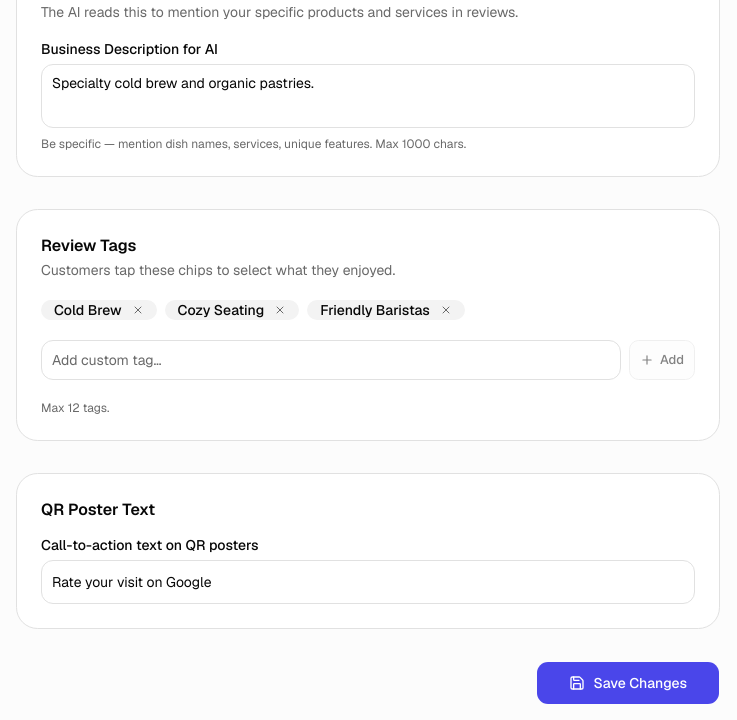
Test: MyBusinessForm Component Tests › adds a new tag via input and Add button
This screenshot has width=737, height=720.
(page scrolled)
Type "Artisan Croissants" into the field with placeholder "Add custom tag…". click: (331,360)
box: [41, 340, 621, 380]
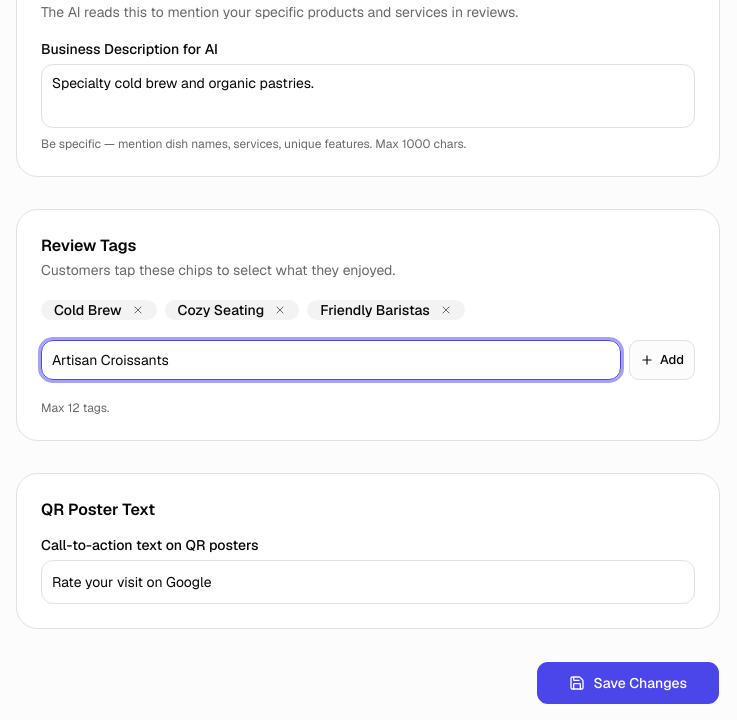
Click the button "Add". click: (662,360)
box: [629, 340, 695, 380]
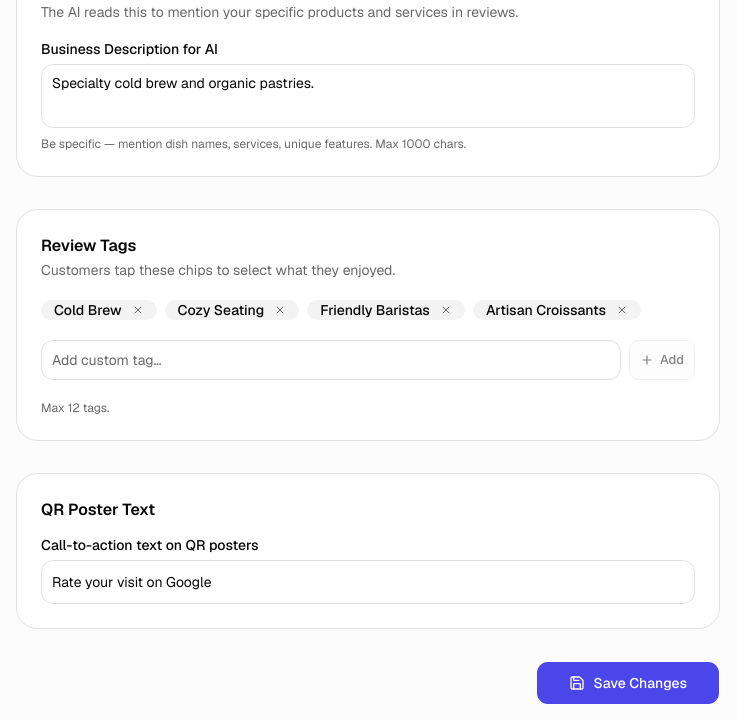
Check: the text "Artisan Croissants" is shown, box [473, 300, 641, 320]
Check: the field with placeholder "Add custom tag…" is empty, box [41, 340, 621, 380]
